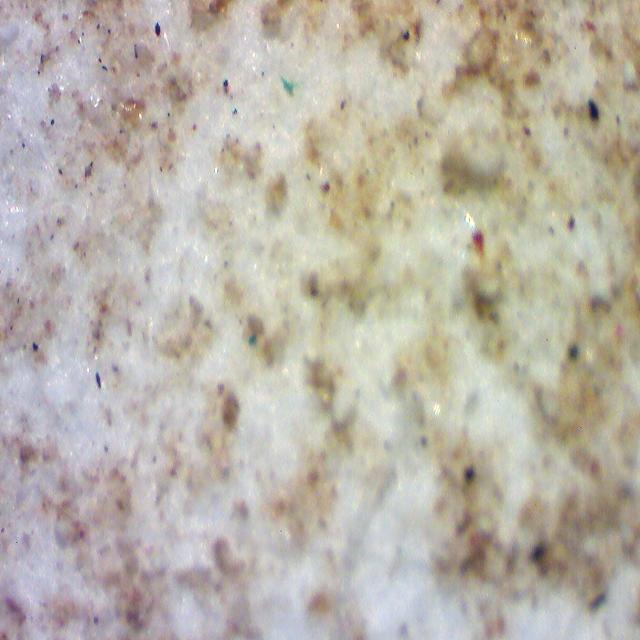microplastic: (472, 228, 486, 256), (281, 76, 293, 95)
